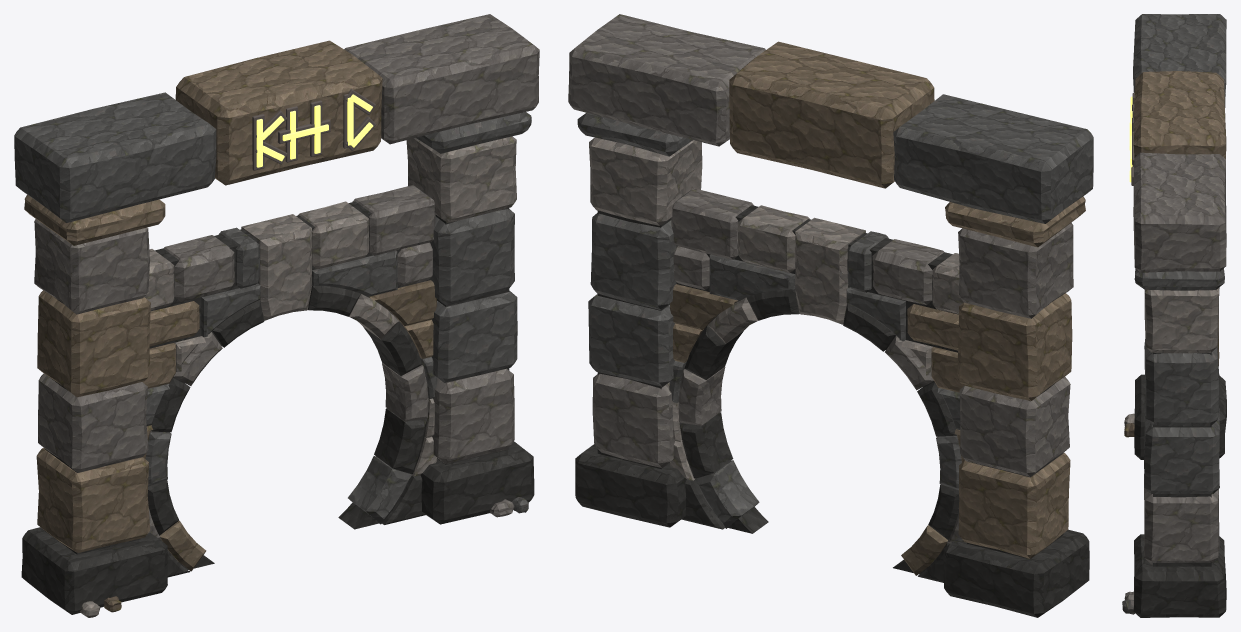
Rendered from entrance_stone.glb.
3 views of the same model, side by side, from view 1: azimuth 30°, elevation 25°; view 2: azimuth 150°, elevation 25°; view 3: azimuth 270°, elevation 25° (orthographic). The views are drawn at different scales.
Parts seen in each view (by area): view 1: model; view 2: model; view 3: model.
Boxes of the visible parts, box(x1,y1,x2,y2) form: model: box(14, 14, 539, 617); model: box(568, 14, 1093, 617); model: box(1122, 14, 1226, 617).
Size of the model in its own units: 3.19 by 2.99 by 0.6783.
8 materials, 6 textured.
